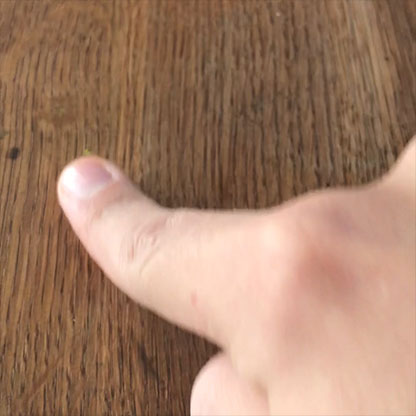fingertip: (42, 136, 143, 220)
